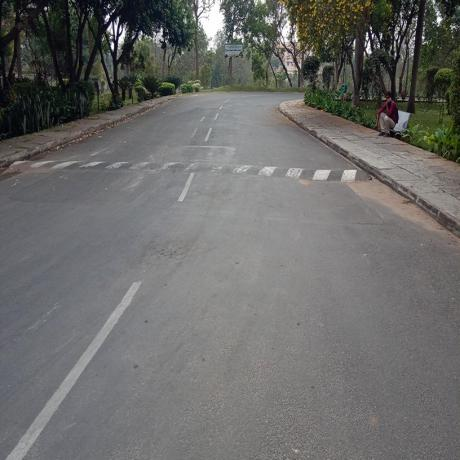Speed Bump: (9, 151, 372, 182)
